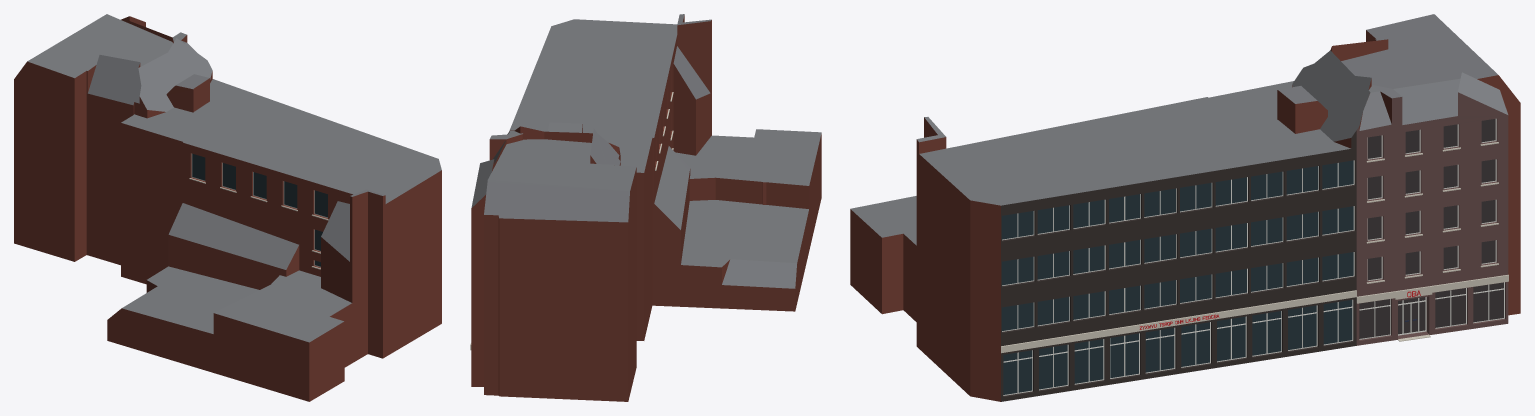
File: recipe-large-oba-linnaeus.glb
3 views of the same model, side by side, from view 1: azimuth 30°, elevation 25°; view 2: azimuth 150°, elevation 25°; view 3: azimuth 270°, elevation 25° (orthographic). The views are drawn at different scales.
Parts seen in each view (by area): view 1: oba-linnaeus; view 2: oba-linnaeus; view 3: oba-linnaeus.
Boxes of the visible parts, box(x1,y1,x2,y2) form: oba-linnaeus: box(14, 14, 441, 401); oba-linnaeus: box(470, 14, 821, 401); oba-linnaeus: box(850, 14, 1520, 401).
Size of the model in its own units: 29.15 by 19.72 by 47.65.
